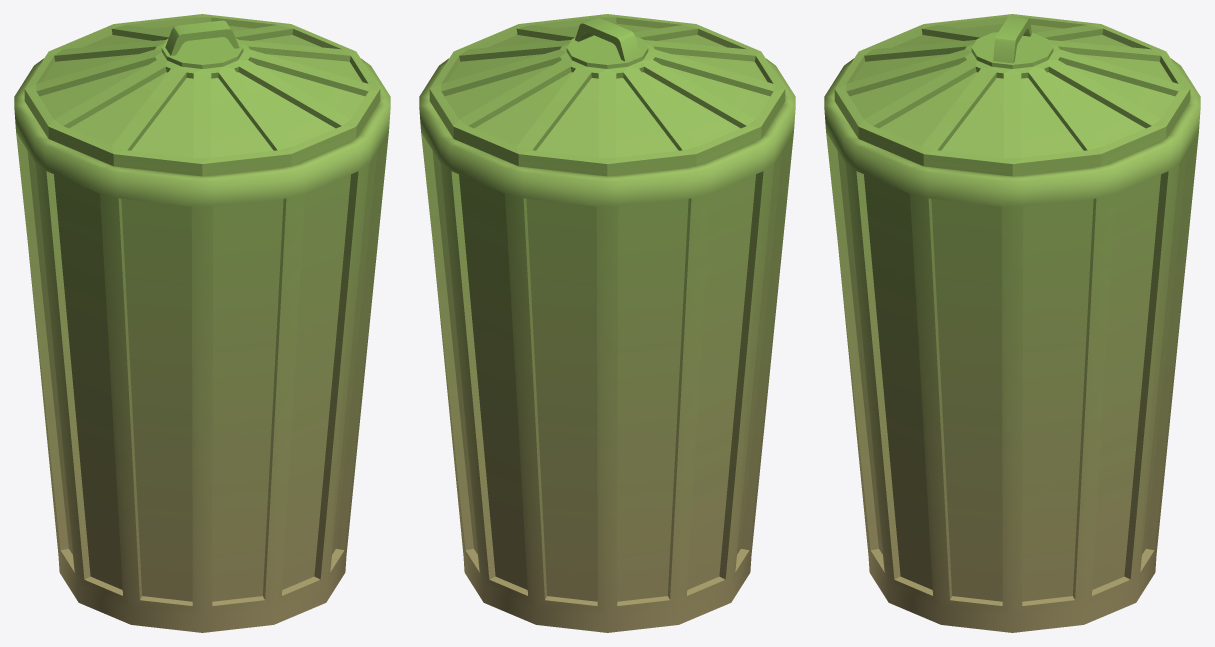
File: trashcan.glb
The picture shows the model from 3 angles, left to right: view 1: azimuth 30°, elevation 25°; view 2: azimuth 150°, elevation 25°; view 3: azimuth 270°, elevation 25°; orthographic projection.
Parts seen in each view (by area): view 1: Trashcan; view 2: Trashcan; view 3: Trashcan.
Part boxes in pixels (x1,y1,x2,y2): Trashcan: (14,14,390,632); Trashcan: (419,14,795,632); Trashcan: (824,14,1200,632).
Bounding box in the file's own units: 0.3317 × 0.5298 × 0.3317.
Materials: 1 (1 with a texture image).
